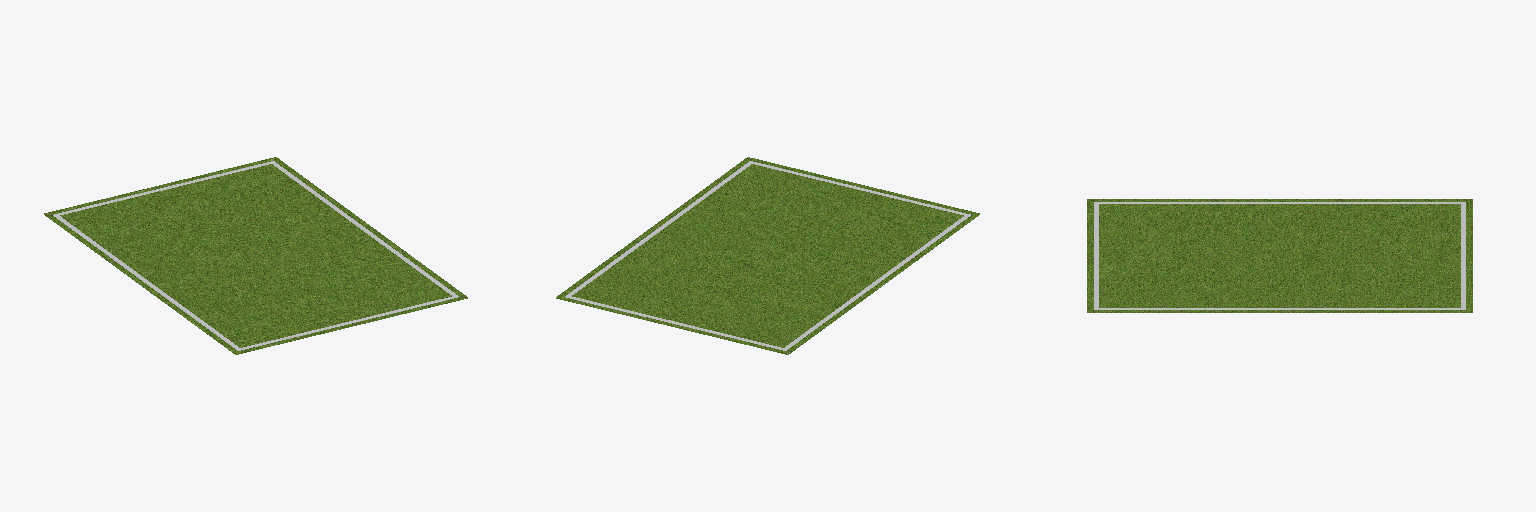
3 views of the same model, side by side, from view 1: azimuth 30°, elevation 25°; view 2: azimuth 150°, elevation 25°; view 3: azimuth 270°, elevation 25° (orthographic).
Visible parts, largest first — view 1: field, Stripes; view 2: field, Stripes; view 3: field, Stripes.
Boxes of the visible parts, box(x1,y1,x2,y2) form: field: box(44, 157, 467, 354); Stripes: box(53, 161, 458, 350); field: box(556, 157, 979, 354); Stripes: box(565, 161, 970, 350); field: box(1087, 199, 1472, 312); Stripes: box(1094, 202, 1465, 309).
Bounding box in the file's own units: 1517 × 0.1694 × 2172.
2 materials, 1 textured.